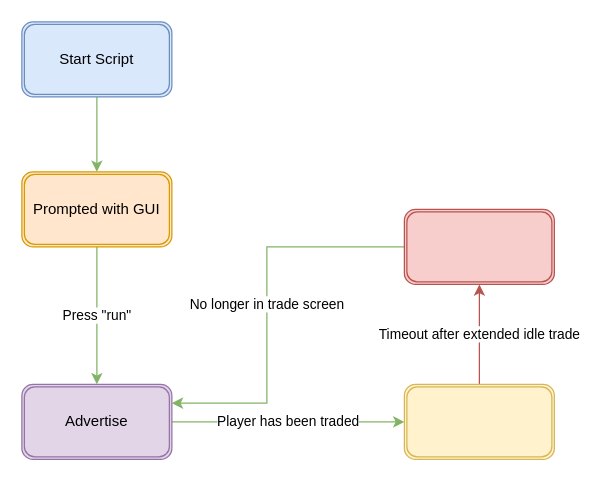
Some shapes in this 601 by 481 pixel diagram are drawn without their labels. Each missing label, with the centre of its shape:
"Accept Trade" goes at point 478,421.
"Decline Trade" goes at point 478,246.
